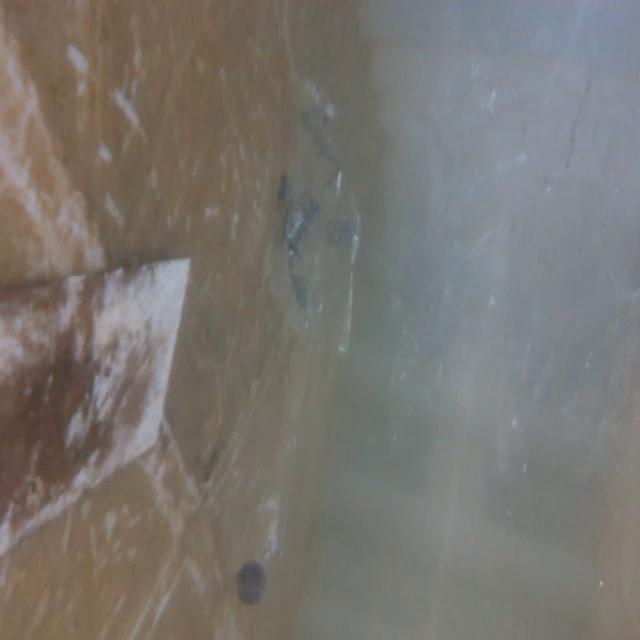metal: (0, 251, 190, 556)
plastic bags: (384, 0, 579, 571), (257, 78, 361, 351)
plastic bottle: (216, 389, 310, 601)
